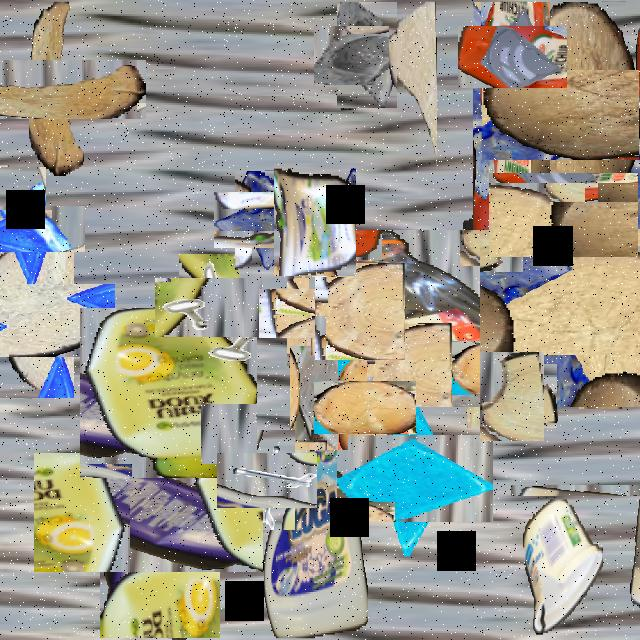glass: (354, 417, 476, 539), (504, 157, 622, 273), (469, 14, 555, 100), (326, 13, 408, 97), (290, 346, 348, 450), (224, 182, 302, 259), (0, 186, 65, 272), (531, 82, 587, 181)
metal: (167, 266, 251, 349), (228, 441, 306, 519)
plastic: (317, 221, 511, 415), (263, 301, 367, 638), (67, 419, 253, 605), (81, 306, 255, 480), (473, 2, 553, 286), (523, 500, 603, 634), (274, 164, 356, 278), (569, 425, 640, 555)
wood: (505, 219, 640, 381), (515, 36, 640, 194), (1, 31, 118, 148), (0, 262, 94, 377), (313, 264, 407, 358), (389, 2, 437, 172), (273, 274, 351, 352), (326, 368, 404, 446), (474, 358, 550, 435), (0, 187, 30, 239)
